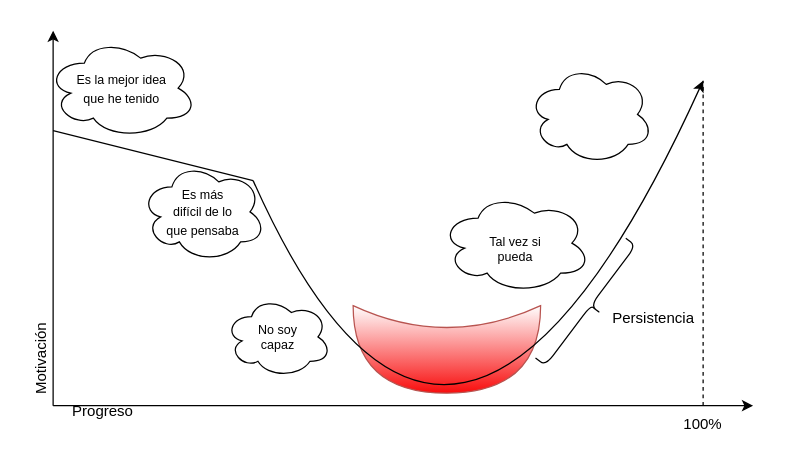
This 785x465 diagram has some shape labels left out. The shapes that lost their labels are listed below. From the top down, each one's box as (x1, y1, x2, y2) in pixels, then its label:
(527, 63, 653, 164): Lo conseguí!
(352, 304, 541, 393): Pozo de la desesperación
